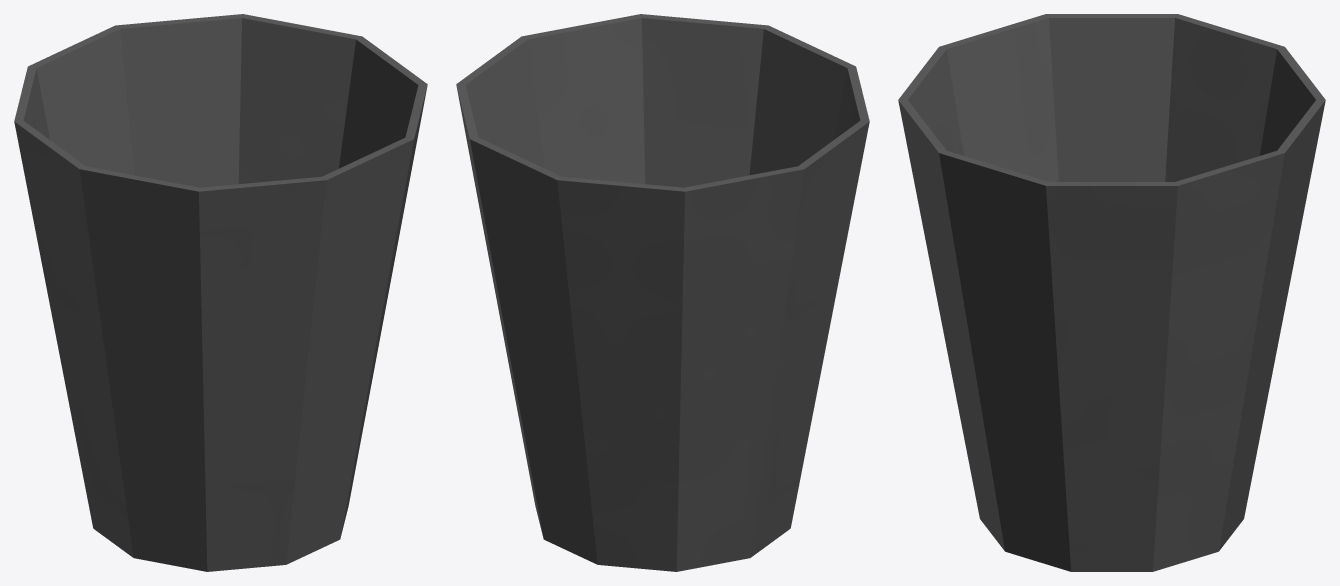
The model's file is Trash_Can_01.fbx.
3 renders of one model, left to right at view 1: azimuth 30°, elevation 25°; view 2: azimuth 150°, elevation 25°; view 3: azimuth 270°, elevation 25°, orthographic.
Parts seen in each view (by area): view 1: Trash_Can_01; view 2: Trash_Can_01; view 3: Trash_Can_01.
Part boxes in pixels (x1,y1,x2,y2): Trash_Can_01: (14, 14, 427, 571); Trash_Can_01: (456, 14, 869, 571); Trash_Can_01: (898, 14, 1325, 571).
Bounding box in the file's own units: 0.4811 × 0.5469 × 0.5059.
